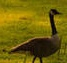goose: (1, 1, 67, 62)
